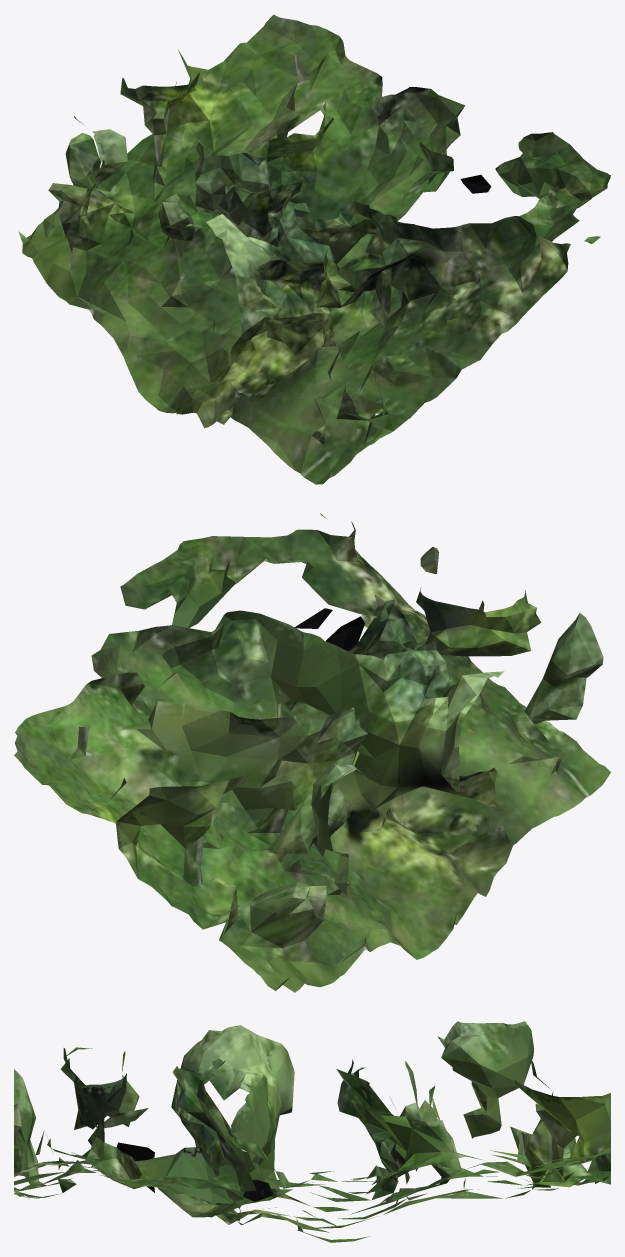
3 views of the same model, one above another, from view 1: azimuth 30°, elevation 25°; view 2: azimuth 150°, elevation 25°; view 3: azimuth 270°, elevation 25° (orthographic). The views are drawn at different scales.
Size of the model in its own units: 33.97 by 21.11 by 52.22.
Materials: 3 (3 with a texture image).
